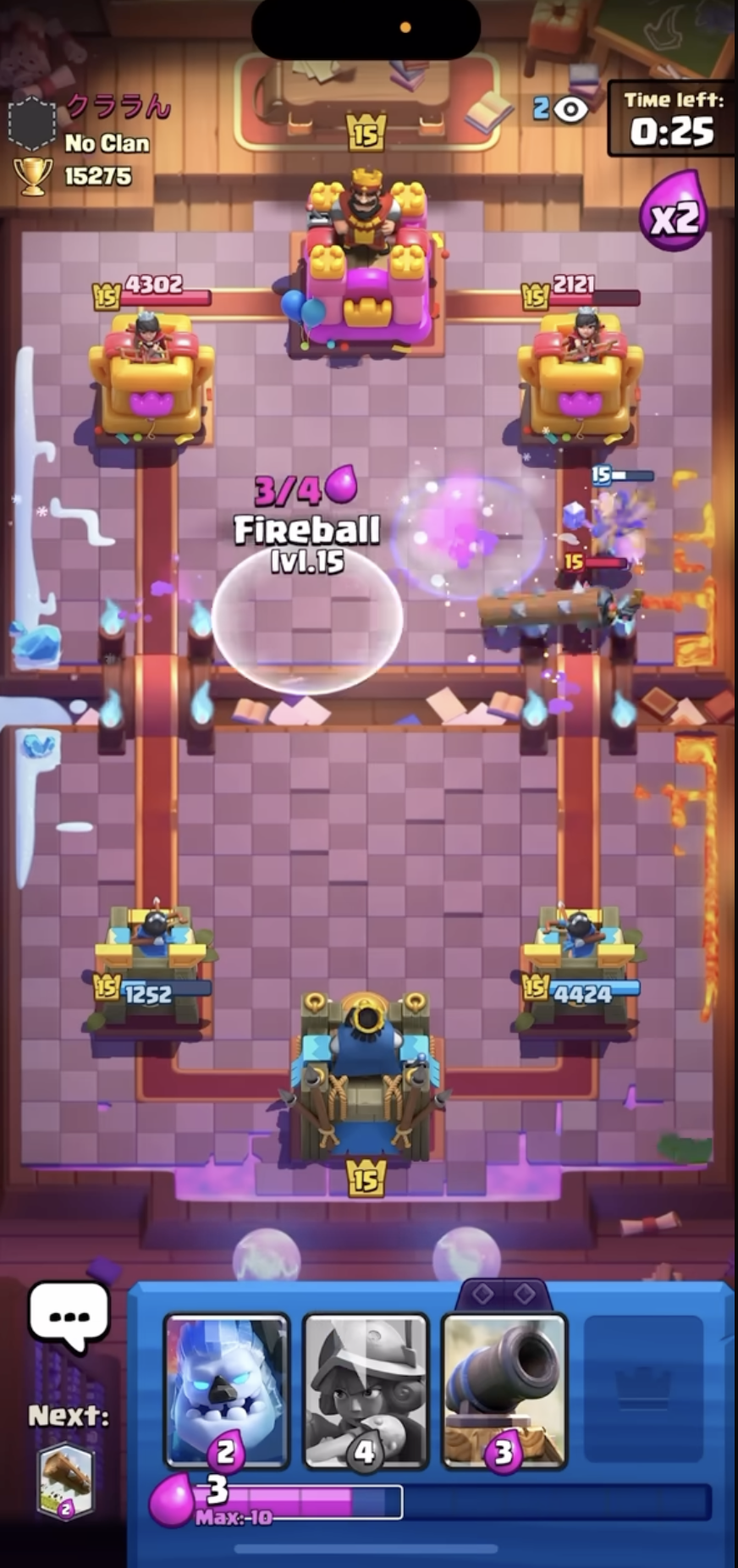mini-pekka: (566, 552, 632, 636)
